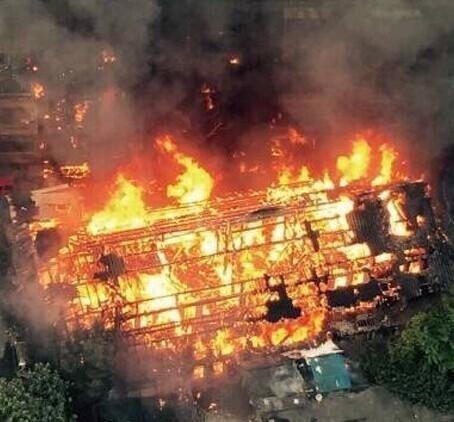fire: (41, 122, 431, 369)
